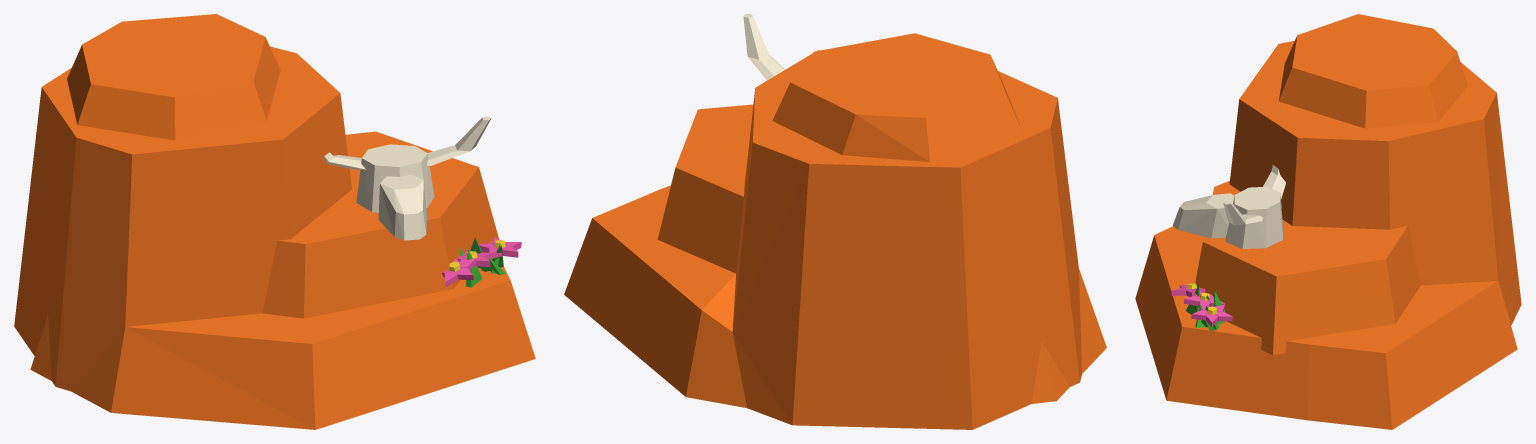
File: CanyonBoulder.fbx
3 views of the same model, side by side, from view 1: azimuth 30°, elevation 25°; view 2: azimuth 150°, elevation 25°; view 3: azimuth 270°, elevation 25° (orthographic). The views are drawn at different scales.
Visible parts, largest first — view 1: CanyonBoulder, CanyonBoulder_Skull, CanyonBoulder_Flowers_Petals, CanyonBoulder_Leaves; view 2: CanyonBoulder, CanyonBoulder_Skull; view 3: CanyonBoulder, CanyonBoulder_Skull, CanyonBoulder_Flowers_Petals, CanyonBoulder_Leaves.
Boxes of the visible parts, x1=… form: CanyonBoulder: x1=14, y1=14, x2=535, y2=429; CanyonBoulder_Skull: x1=324, y1=116, x2=491, y2=240; CanyonBoulder_Flowers_Petals: x1=442, y1=237, x2=521, y2=286; CanyonBoulder_Leaves: x1=459, y1=238, x2=505, y2=287; CanyonBoulder: x1=564, y1=33, x2=1106, y2=429; CanyonBoulder_Skull: x1=743, y1=14, x2=785, y2=80; CanyonBoulder: x1=1135, y1=14, x2=1521, y2=429; CanyonBoulder_Skull: x1=1172, y1=165, x2=1285, y2=248; CanyonBoulder_Flowers_Petals: x1=1171, y1=285, x2=1232, y2=326; CanyonBoulder_Leaves: x1=1186, y1=284, x2=1225, y2=331.
Bounding box in the file's own units: 11.96 × 6.9 × 9.94.
